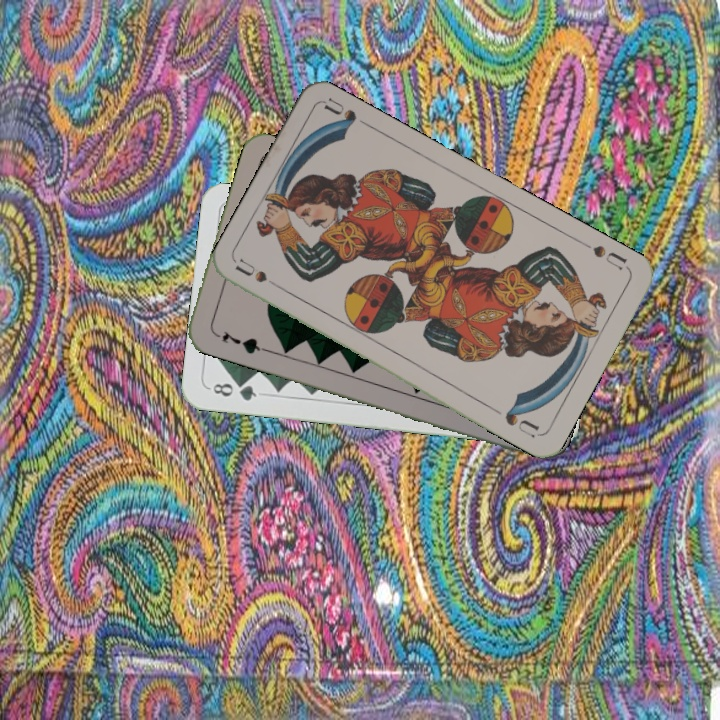G7: (218, 327, 267, 357)
G8: (205, 378, 259, 404)
SU: (232, 255, 288, 294), (588, 241, 630, 273)
